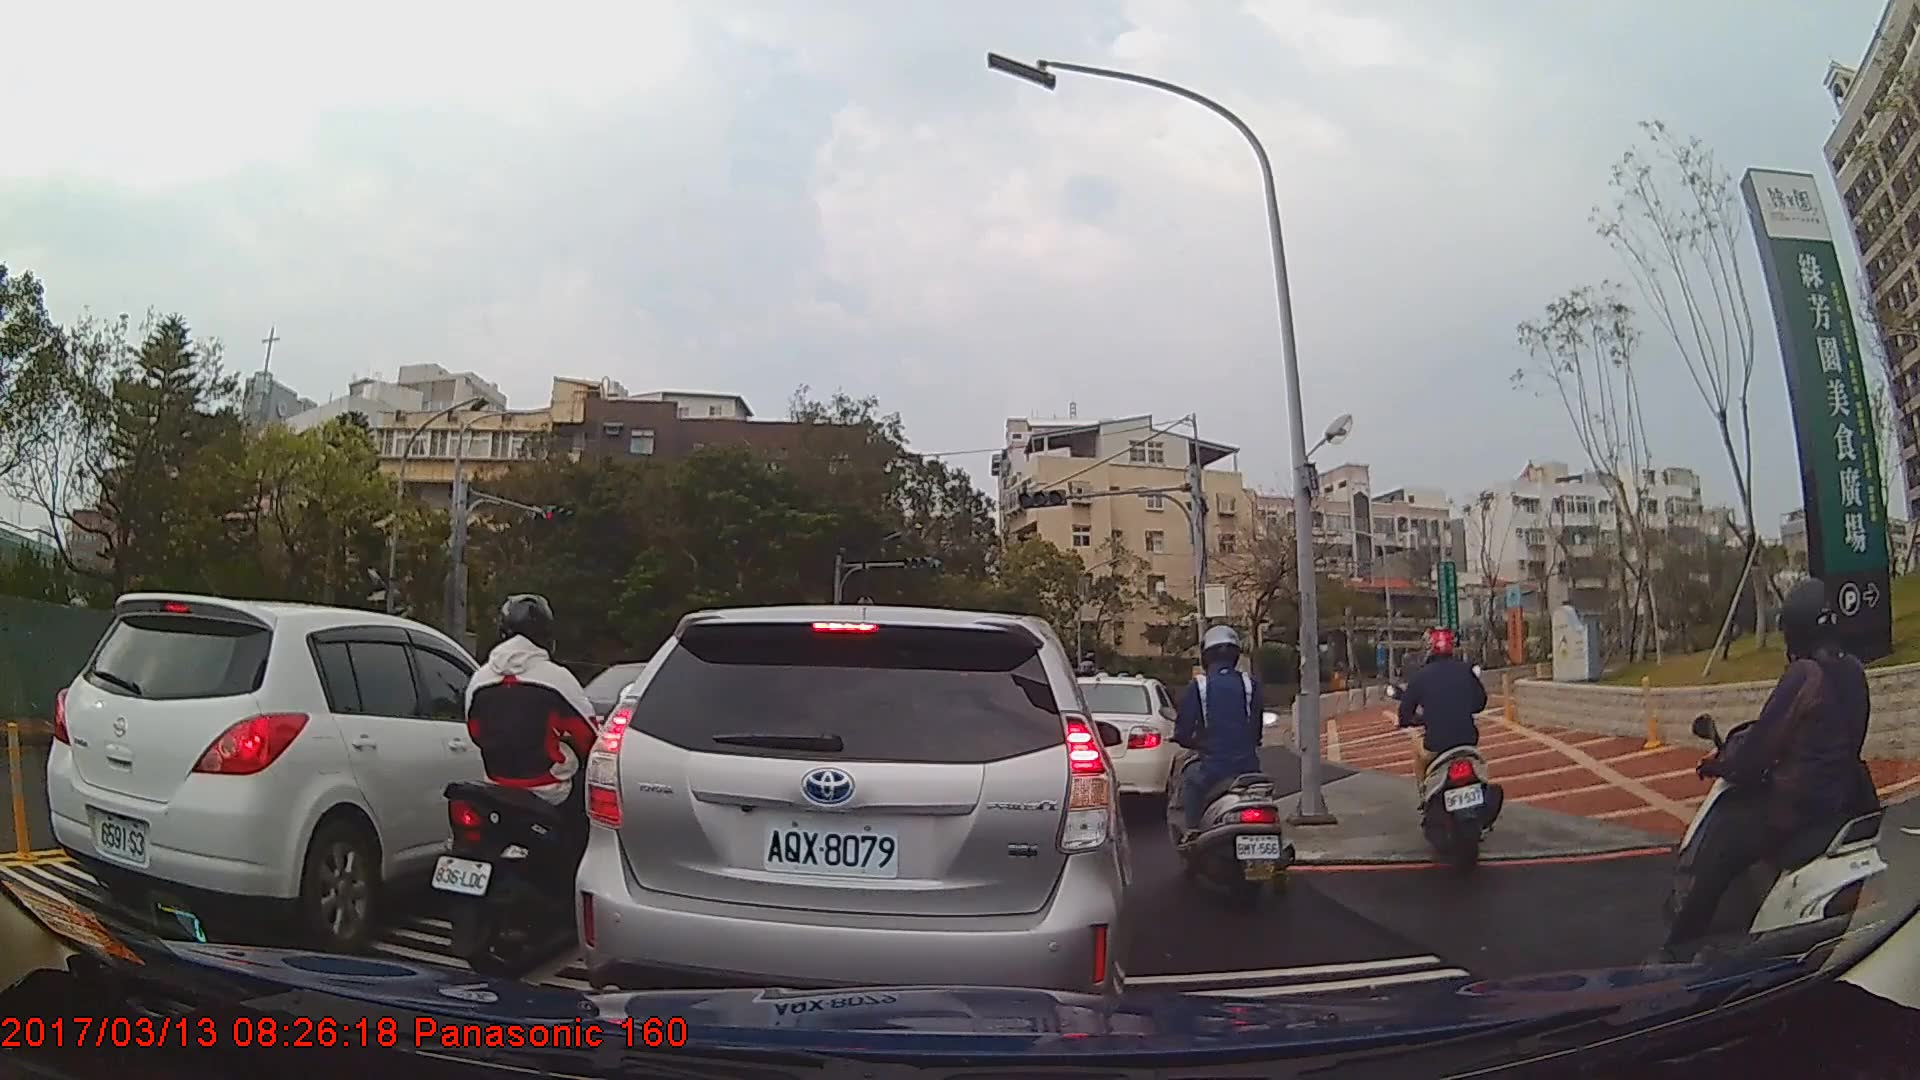rider: (1652, 571, 1896, 1017), (435, 592, 642, 983), (1160, 624, 1293, 908), (1389, 621, 1506, 861)
vehicle: (574, 602, 1133, 1022), (43, 594, 585, 953), (1058, 672, 1192, 811)
